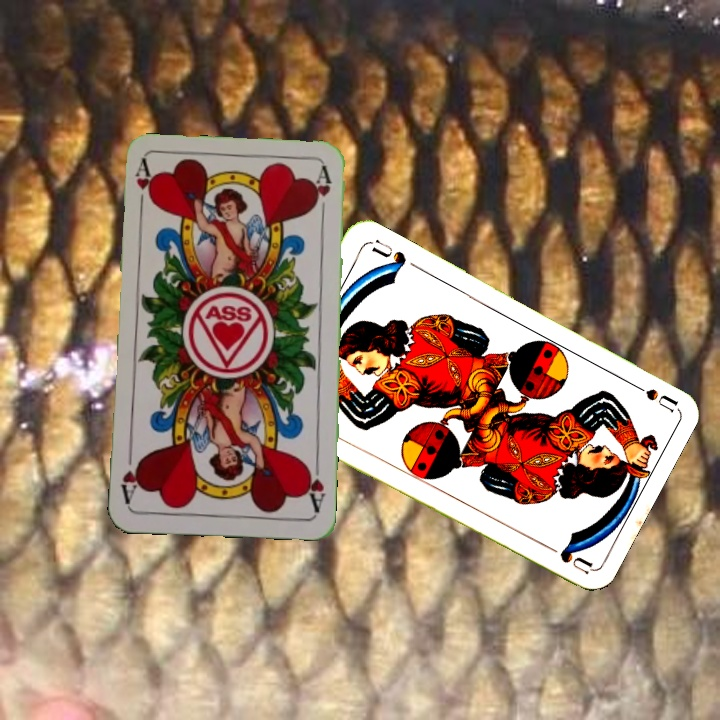HA: (301, 455, 328, 514), (131, 158, 155, 217)
SU: (622, 376, 679, 414)
